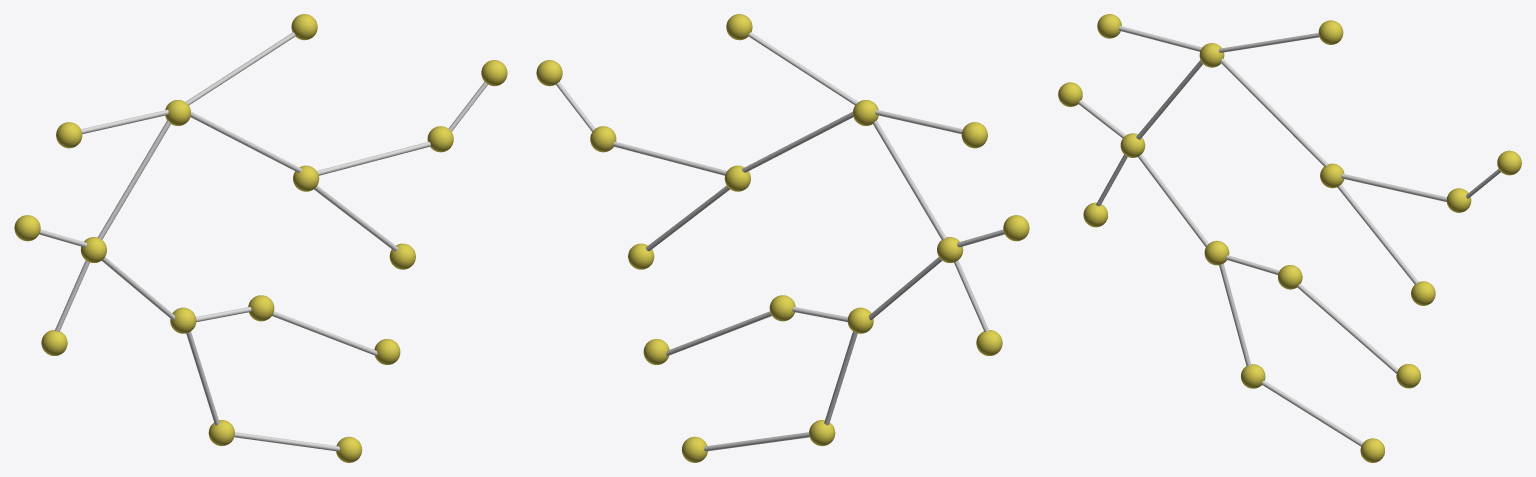
Rendered from Gemini.glb.
3 renders of one model, left to right at view 1: azimuth 30°, elevation 25°; view 2: azimuth 150°, elevation 25°; view 3: azimuth 330°, elevation 25°, orthographic. The views are drawn at different scales.
Parts seen in each view (by area): view 1: Mesh_Mesh_head_geo.001_lambert2SG.001; view 2: Mesh_Mesh_head_geo.001_lambert2SG.001; view 3: Mesh_Mesh_head_geo.001_lambert2SG.001.
Boxes of the visible parts, x1,y1,x2,y2 form: Mesh_Mesh_head_geo.001_lambert2SG.001: (14,14,507,462); Mesh_Mesh_head_geo.001_lambert2SG.001: (536,14,1029,462); Mesh_Mesh_head_geo.001_lambert2SG.001: (1058,14,1521,462).
Bounding box in the file's own units: 215 × 192 × 10.
